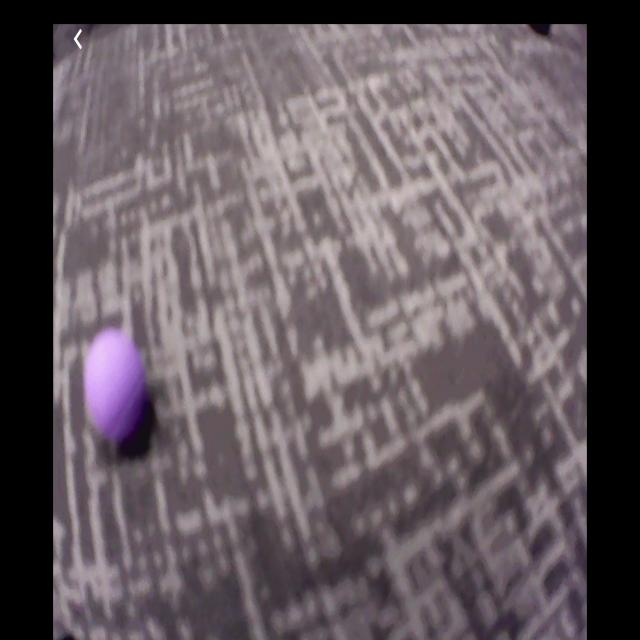ball: (84, 327, 144, 445)
